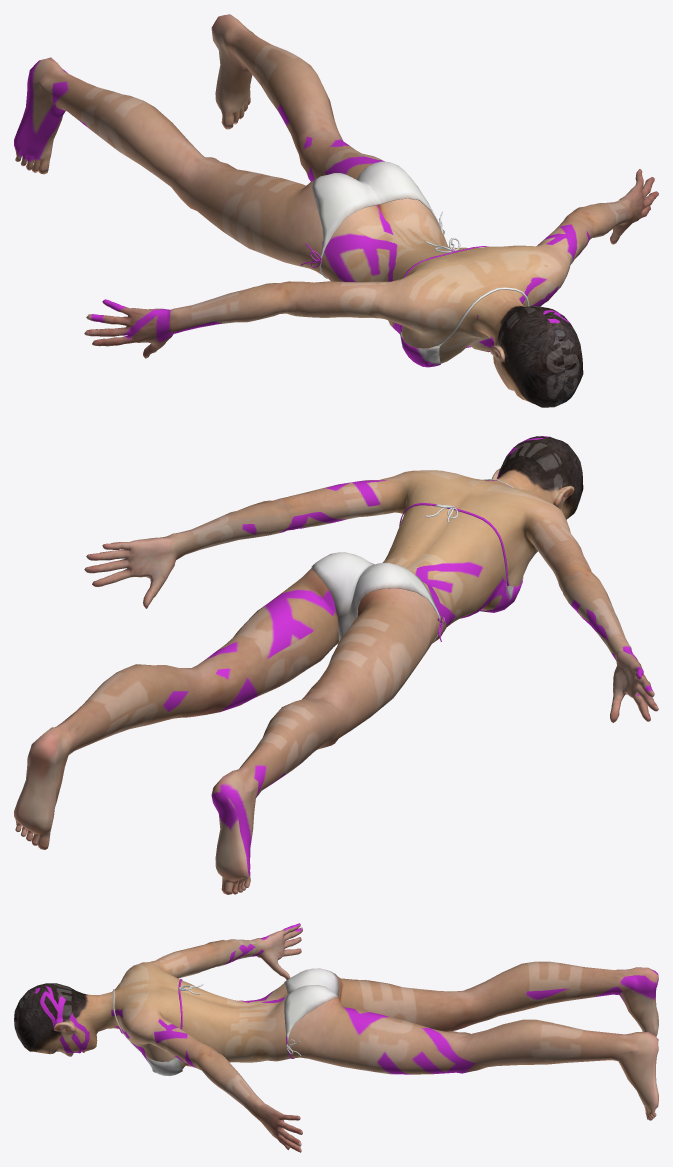
File: Free_BaseFem_v100.fbx
3 renders of one model, top to bottom at view 1: azimuth 30°, elevation 25°; view 2: azimuth 150°, elevation 25°; view 3: azimuth 270°, elevation 25°, orthographic. The views are drawn at different scales.
Visible parts, largest first — view 1: Fem_C_Slim_Body_2012_01, Bikini_Briefs_Slim_01, Bikini_Top_Slim_01; view 2: Fem_C_Slim_Body_2012_01, Bikini_Briefs_Slim_01, Bikini_Top_Slim_01; view 3: Fem_C_Slim_Body_2012_01, Bikini_Briefs_Slim_01, Bikini_Top_Slim_01.
Part boxes in pixels (x1,y1,x2,y2): Fem_C_Slim_Body_2012_01: (14, 14, 658, 407); Bikini_Briefs_Slim_01: (311, 161, 440, 278); Bikini_Top_Slim_01: (400, 246, 529, 367); Fem_C_Slim_Body_2012_01: (14, 436, 658, 894); Bikini_Briefs_Slim_01: (311, 552, 440, 641); Bikini_Top_Slim_01: (399, 479, 523, 612); Fem_C_Slim_Body_2012_01: (14, 923, 658, 1152); Bikini_Briefs_Slim_01: (284, 968, 339, 1058); Bikini_Top_Slim_01: (113, 979, 182, 1076).
Size of the model in its own units: 1.34 by 0.3241 by 1.76.
